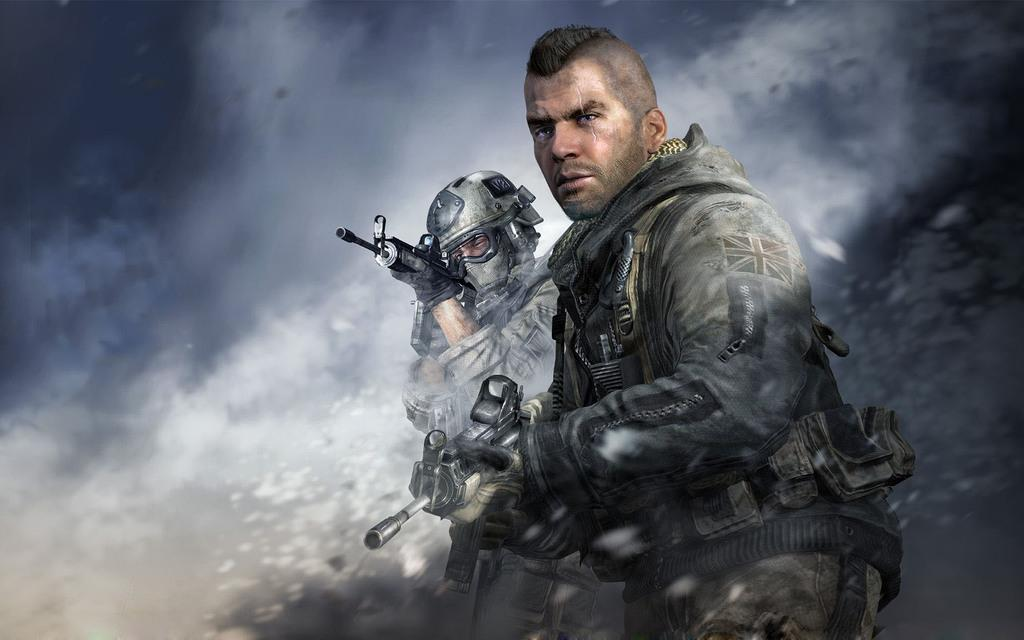Sem Máscara: (522, 61, 644, 216), (453, 237, 489, 259)
